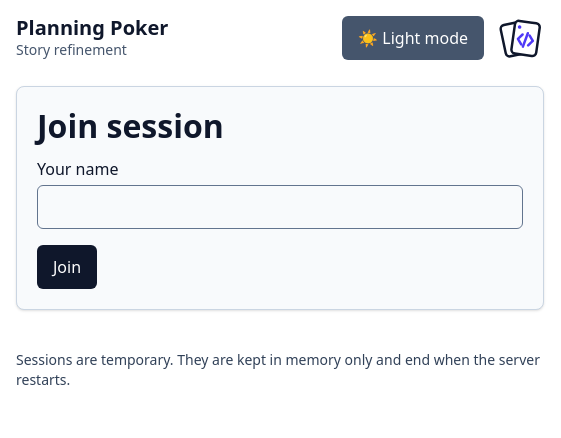
Test: GamePage › join prompt › shows a generic message for an unknown ack code and keeps the prompt
Type "Anna" into the field labelled "Your name".
click(280, 207); type("Anna")  # box [37,185,523,229]
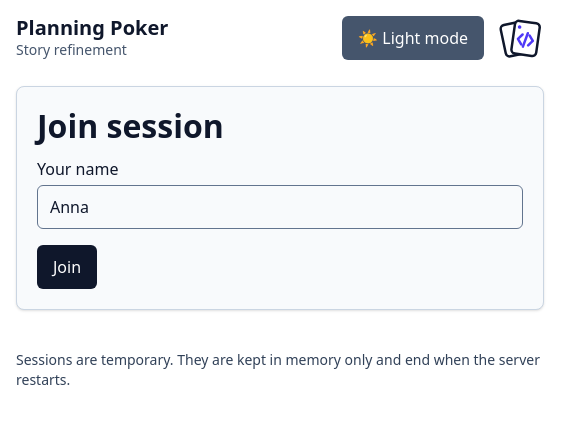
Click the button "Join".
click(67, 267)  # box [37,245,97,289]
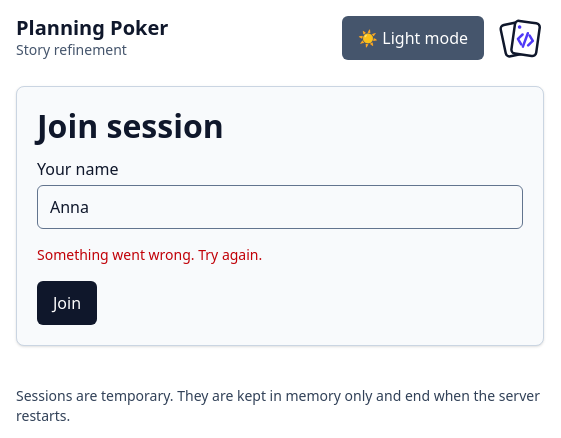
Now the message reads "Something went wrong. Try again.", box [37,245,262,264]
